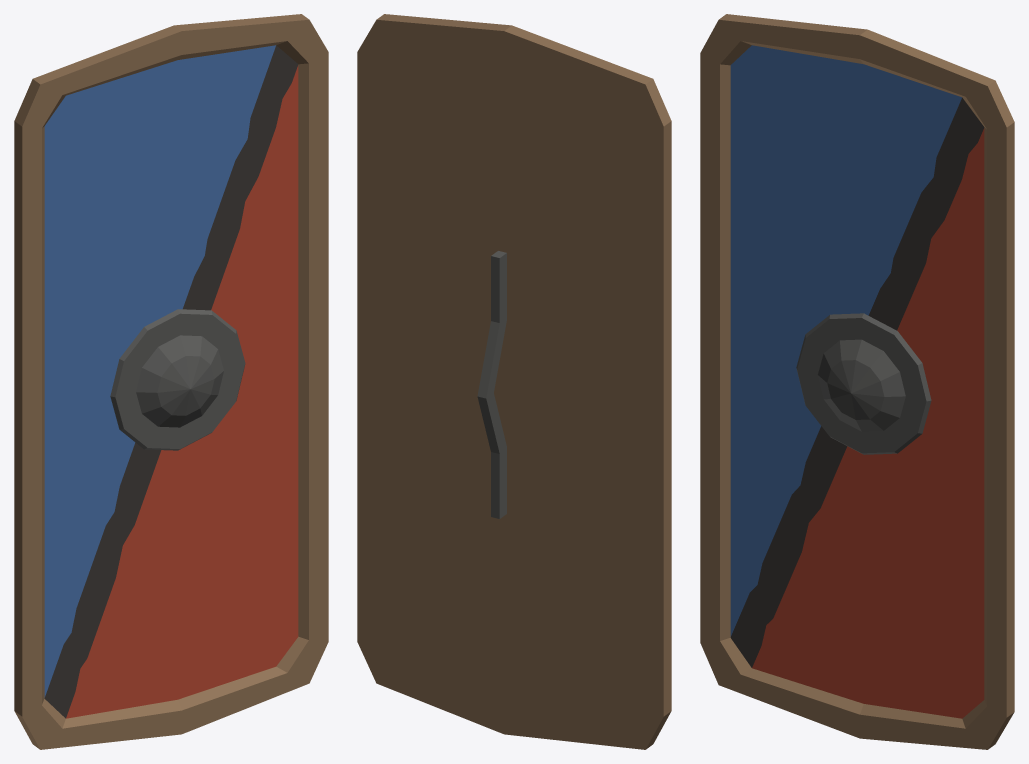
File: SM_pwe_gauls_shield_10b.fbx
The picture shows the model from 3 angles, left to right: view 1: azimuth 30°, elevation 25°; view 2: azimuth 150°, elevation 25°; view 3: azimuth 330°, elevation 25°; orthographic projection.
Parts seen in each view (by area): view 1: SM_pwe_gauls_shield_10b; view 2: SM_pwe_gauls_shield_10b; view 3: SM_pwe_gauls_shield_10b.
Boxes of the visible parts, left/top/right/bottom form: SM_pwe_gauls_shield_10b: left=14, top=14, right=328, bottom=749; SM_pwe_gauls_shield_10b: left=357, top=14, right=671, bottom=749; SM_pwe_gauls_shield_10b: left=700, top=14, right=1014, bottom=749.
Bounding box in the file's own units: 53.63 × 118 × 11.35.
